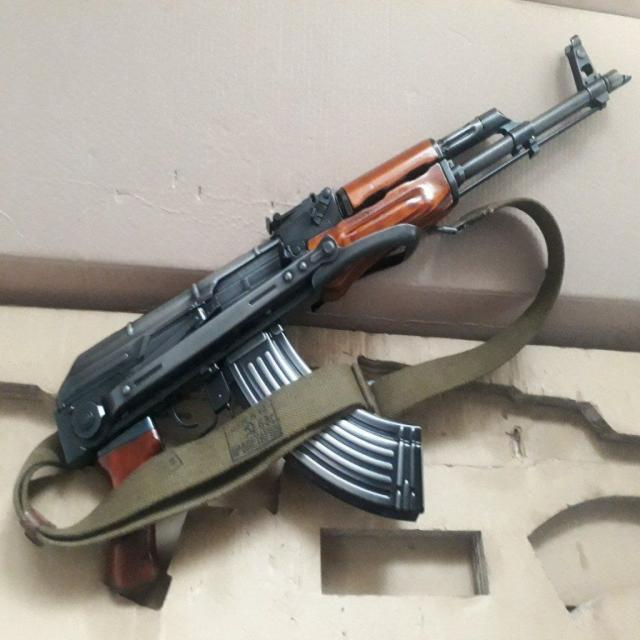ak: (56, 33, 634, 603)
